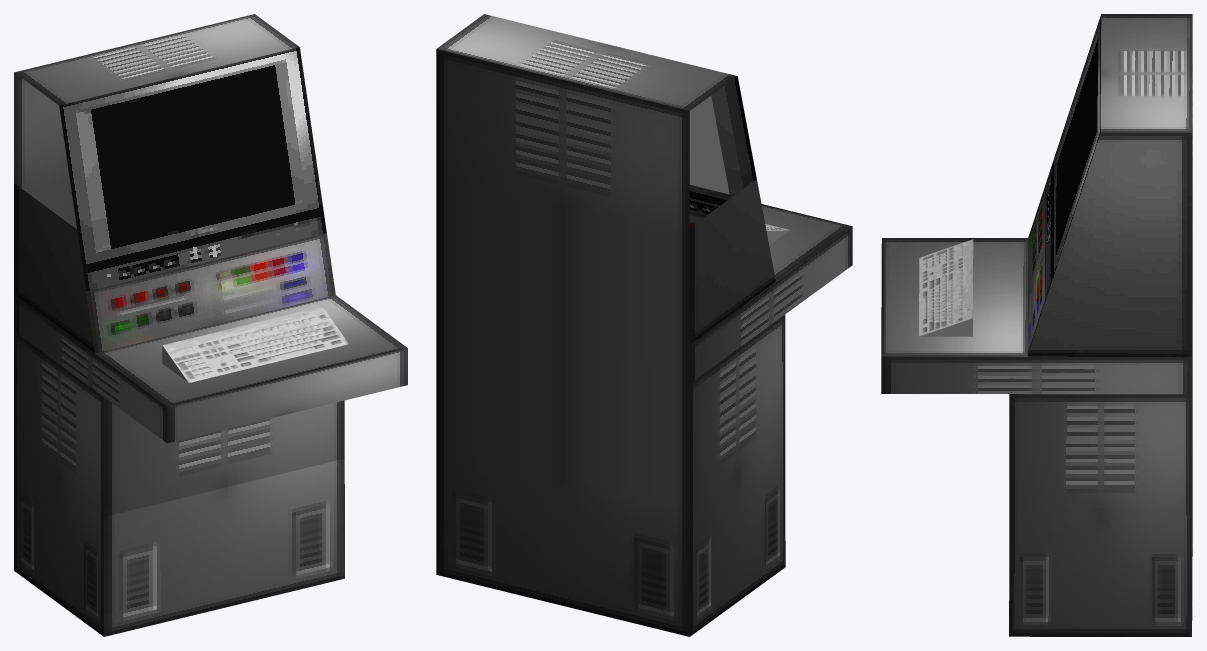
The model's file is primary_177.glb.
3 renders of one model, left to right at view 1: azimuth 30°, elevation 25°; view 2: azimuth 150°, elevation 25°; view 3: azimuth 270°, elevation 25°, orthographic. The views are drawn at different scales.
Visible parts, largest first — view 1: Object; view 2: Object; view 3: Object.
Boxes of the visible parts, x1,y1,x2,y2 form: Object: [14, 14, 407, 636]; Object: [436, 14, 852, 636]; Object: [881, 14, 1192, 636].
Size of the model in its own units: 0.9014 by 1.78 by 0.9974.
20 materials, 20 textured.
